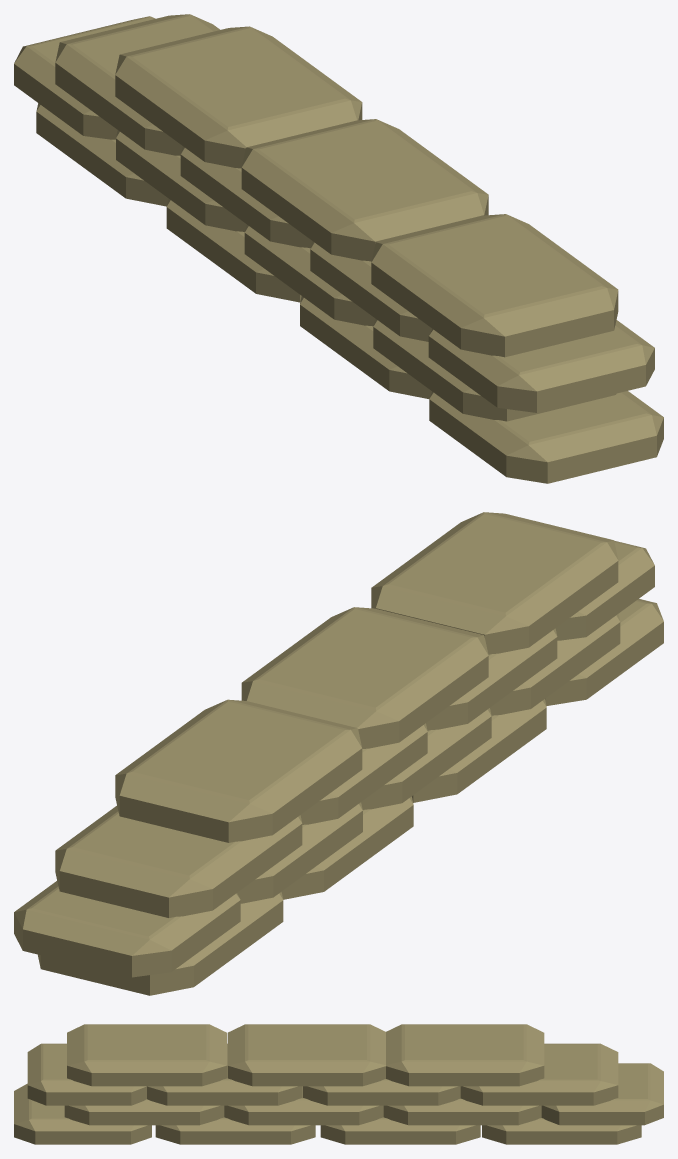
Rendered from LowPolySandbagBarrier.fbx.
The picture shows the model from 3 angles, top to bottom: view 1: azimuth 30°, elevation 25°; view 2: azimuth 150°, elevation 25°; view 3: azimuth 270°, elevation 25°; orthographic projection. The views are drawn at different scales.
Visible parts, largest first — view 1: Sandbag.008, Sandbag.010, Sandbag.007, Sandbag.013, Sandbag.005, Sandbag.006, Sandbag.009, Sandbag.002, Sandbag.014, Sandbag.012, Sandbag, Sandbag.004 (+3 smaller); view 2: Sandbag.007, Sandbag.008, Sandbag.010, Sandbag.006, Sandbag.009, Sandbag.001, Sandbag.013, Sandbag, Sandbag.011, Sandbag.014, Sandbag.012, Sandbag.004 (+3 smaller); view 3: Sandbag.008, Sandbag.007, Sandbag.010, Sandbag.006, Sandbag.009, Sandbag.013, Sandbag.005, Sandbag.012, Sandbag.003, Sandbag.002, Sandbag.014, Sandbag (+3 smaller).
Part boxes in pixels (<box>): Sandbag.008: <box>371,214,618,357</box>; Sandbag.010: <box>241,119,488,261</box>; Sandbag.007: <box>115,26,362,168</box>; Sandbag.013: <box>429,391,663,483</box>; Sandbag.005: <box>428,320,654,412</box>; Sandbag.006: <box>55,14,220,155</box>; Sandbag.009: <box>14,16,155,139</box>; Sandbag.002: <box>373,318,615,421</box>; Sandbag.014: <box>166,198,301,302</box>; Sandbag.012: <box>244,224,374,326</box>; Sandbag: <box>300,296,431,398</box>; Sandbag.004: <box>180,146,311,248</box>; Sandbag.007: <box>115,699,362,842</box>; Sandbag.008: <box>371,512,618,654</box>; Sandbag.010: <box>241,607,488,748</box>; Sandbag.006: <box>55,806,302,917</box>; Sandbag.009: <box>14,881,240,977</box>; Sandbag.001: <box>38,892,283,995</box>; Sandbag.013: <box>545,599,663,705</box>; Sandbag: <box>412,699,546,802</box>; Sandbag.011: <box>426,628,557,730</box>; Sandbag.014: <box>281,796,413,899</box>; Sandbag.012: <box>361,708,491,809</box>; Sandbag.004: <box>300,723,427,824</box>; Sandbag.008: <box>67,1024,226,1086</box>; Sandbag.007: <box>386,1024,544,1086</box>; Sandbag.010: <box>227,1024,385,1086</box>; Sandbag.006: <box>460,1043,618,1105</box>; Sandbag.009: <box>541,1063,663,1125</box>; Sandbag.013: <box>14,1083,151,1144</box>; Sandbag.005: <box>27,1043,146,1105</box>; Sandbag.012: <box>224,1086,383,1125</box>; Sandbag.003: <box>383,1098,541,1125</box>; Sandbag.002: <box>64,1099,224,1125</box>; Sandbag.014: <box>320,1117,480,1144</box>; Sandbag: <box>155,1117,315,1144</box>.
Bounding box in the file's own units: 156 × 125 × 898.
